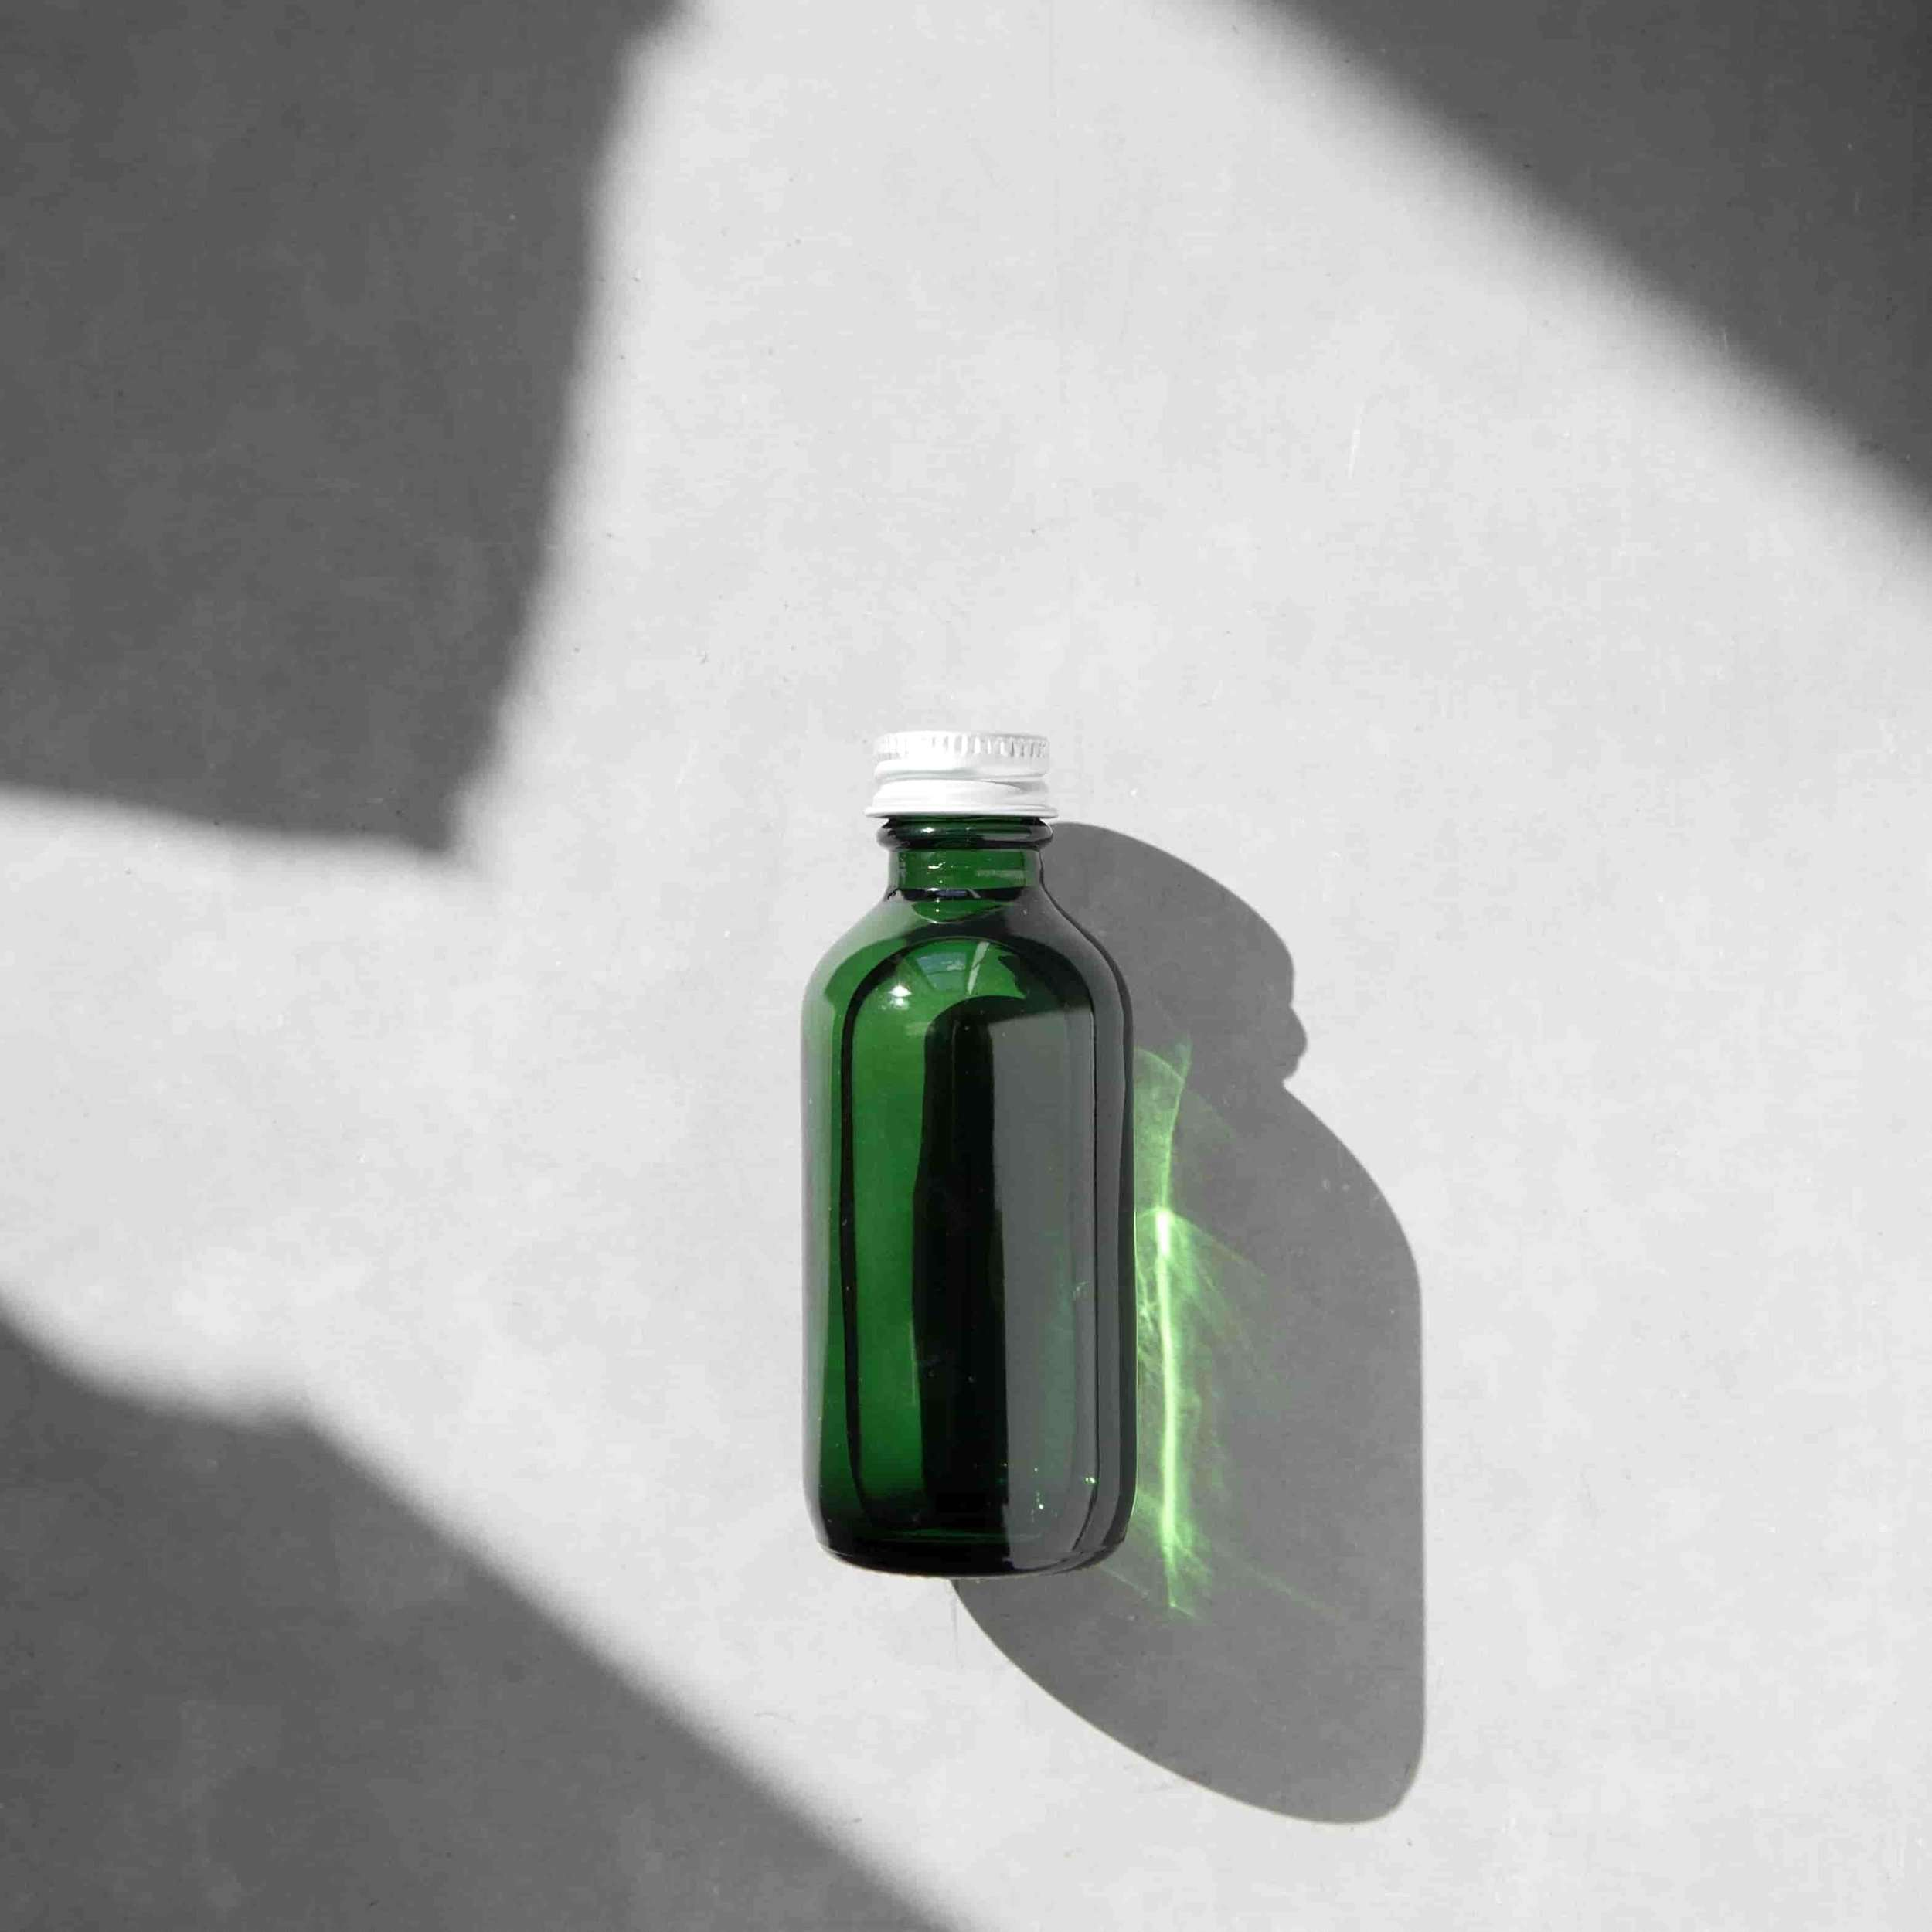glass_bottle: (764, 718, 1169, 1605)
